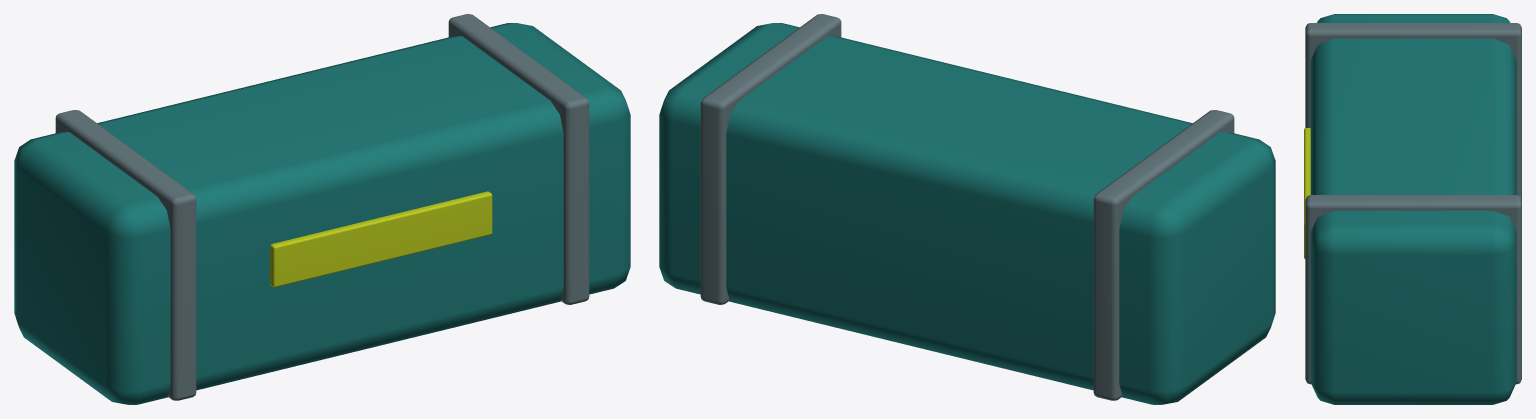
The model's file is frontier_barrier.glb.
3 views of the same model, side by side, from view 1: azimuth 30°, elevation 25°; view 2: azimuth 150°, elevation 25°; view 3: azimuth 270°, elevation 25° (orthographic). The views are drawn at different scales.
Parts seen in each view (by area): view 1: frontier_barrier; view 2: frontier_barrier; view 3: frontier_barrier.
Boxes of the visible parts, x1,y1,x2,y2 form: frontier_barrier: (14,14,630,404); frontier_barrier: (659,14,1275,404); frontier_barrier: (1304,14,1521,404).
Bounding box in the file's own units: 2.5 × 0.955 × 1.01.
